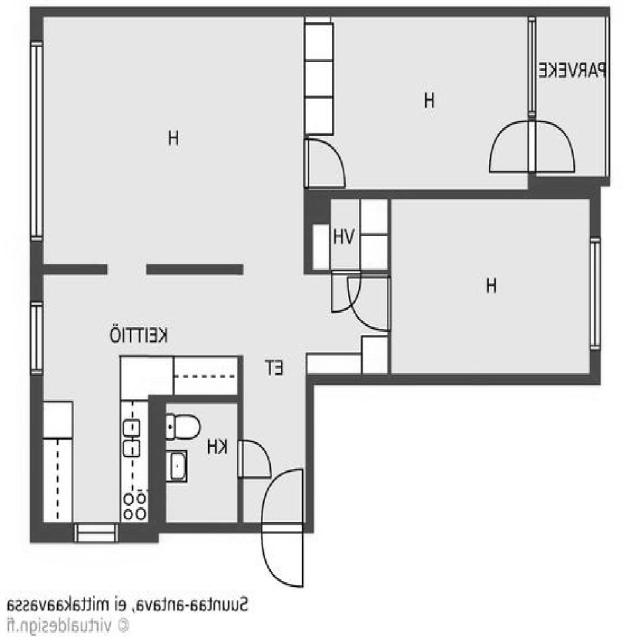door: (261, 462, 306, 529), (262, 526, 307, 592), (350, 272, 398, 331), (534, 115, 578, 176), (486, 119, 533, 172), (237, 436, 277, 486), (332, 268, 361, 318)
window: (26, 42, 42, 243), (590, 240, 604, 349), (526, 18, 538, 118), (28, 300, 43, 372), (76, 524, 115, 544)
zone: (38, 14, 306, 269), (304, 18, 534, 193), (388, 201, 592, 378), (41, 273, 150, 528), (532, 10, 608, 185), (161, 398, 240, 525), (323, 196, 389, 272)
